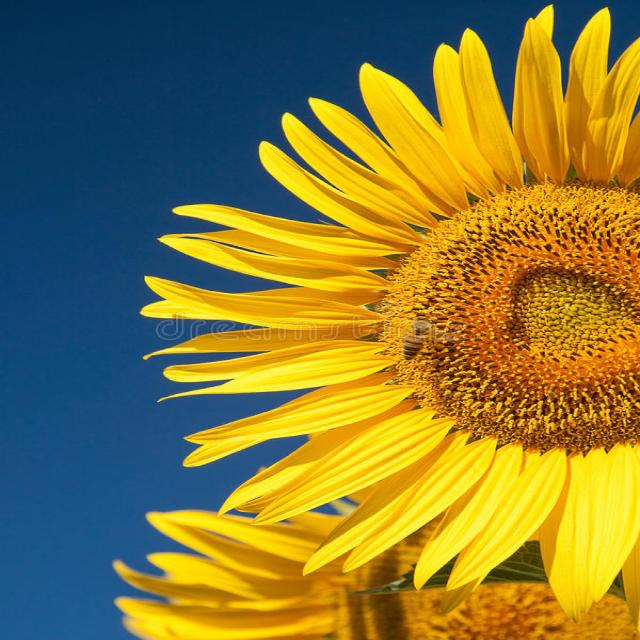sunflower: (112, 9, 640, 614)
